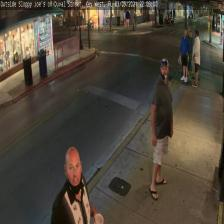person: (50, 146, 103, 224), (149, 57, 173, 199)
